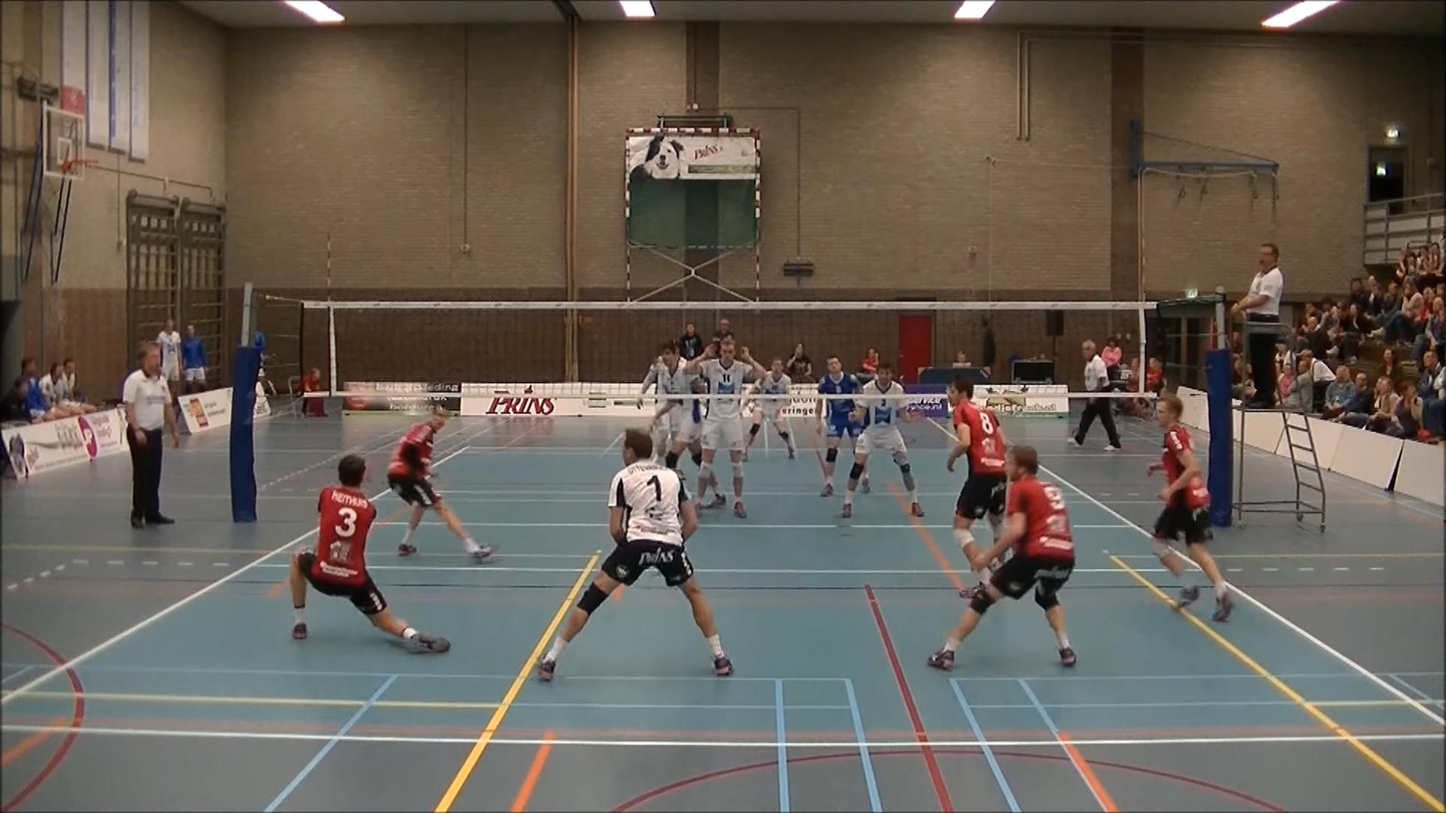Player: (538, 430, 732, 681), (929, 446, 1075, 670), (1148, 394, 1232, 621), (388, 408, 493, 562), (688, 337, 764, 518), (841, 361, 923, 517), (946, 376, 1007, 562), (639, 341, 701, 468), (816, 355, 862, 497), (745, 358, 795, 458)
Receive: (281, 435, 458, 663)
